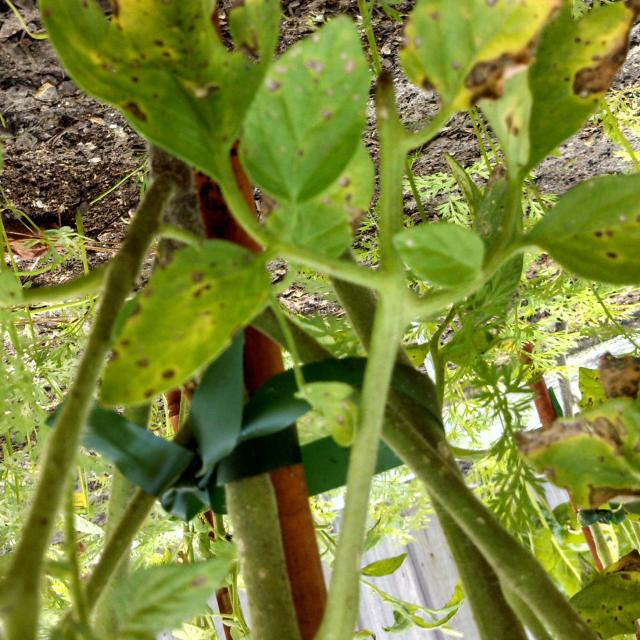Tomato Septoria leaf spot: (32, 0, 304, 182), (85, 226, 280, 412), (233, 6, 385, 220), (490, 0, 640, 184), (388, 0, 560, 159), (536, 169, 640, 299), (0, 0, 21, 287)
